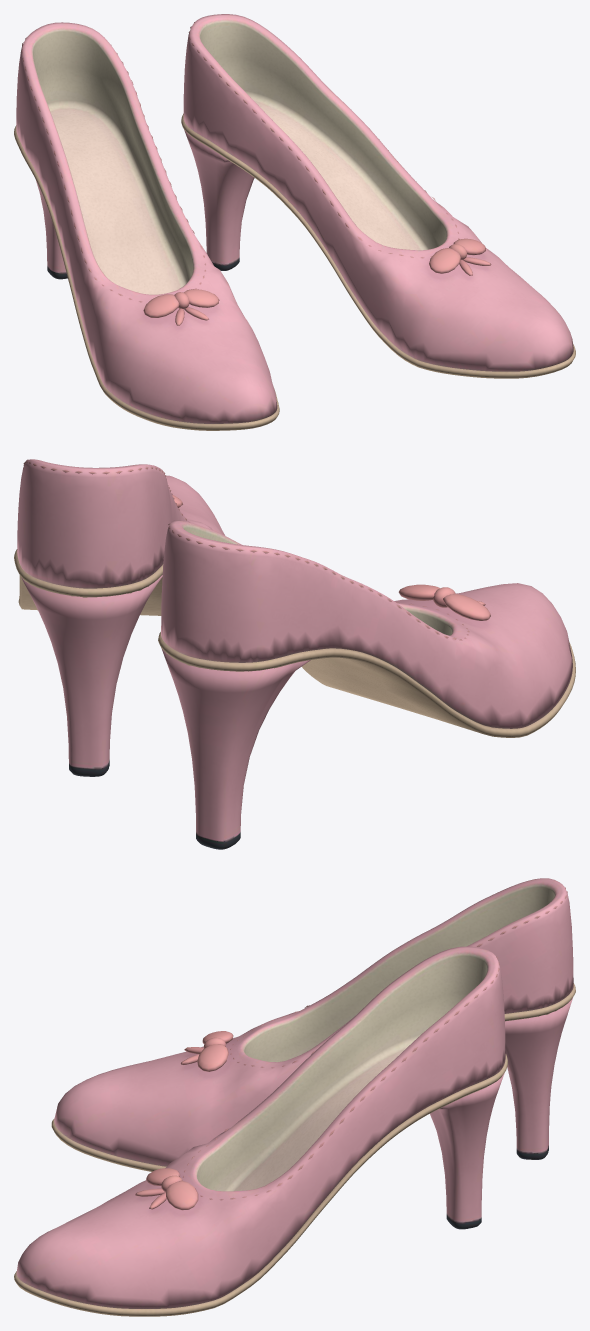
File: heels.glb
3 renders of one model, top to bottom at view 1: azimuth 30°, elevation 25°; view 2: azimuth 150°, elevation 25°; view 3: azimuth 270°, elevation 25°, orthographic. The views are drawn at different scales.
Parts seen in each view (by area): view 1: high-heels_body; view 2: high-heels_body; view 3: high-heels_body.
Boxes of the visible parts, x1,y1,x2,y2 form: high-heels_body: (14,14,575,430); high-heels_body: (14,459,575,849); high-heels_body: (14,878,575,1316).
Bounding box in the file's own units: 0.243 × 0.1369 × 0.2651.
Materials: 1 (1 with a texture image).
